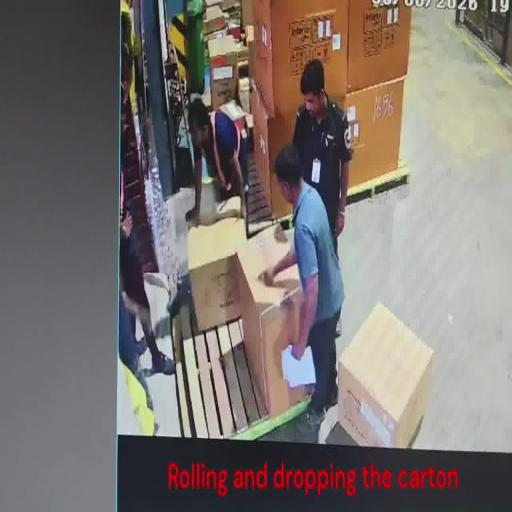carton: (248, 73, 407, 216), (240, 0, 414, 122), (233, 236, 316, 418), (338, 300, 434, 451), (187, 203, 251, 333), (206, 59, 238, 110)
forklift: (117, 1, 196, 436)
pallet: (170, 301, 342, 445), (248, 164, 414, 242)
person: (258, 146, 346, 432), (118, 148, 176, 386), (290, 59, 352, 259), (184, 94, 250, 232)
